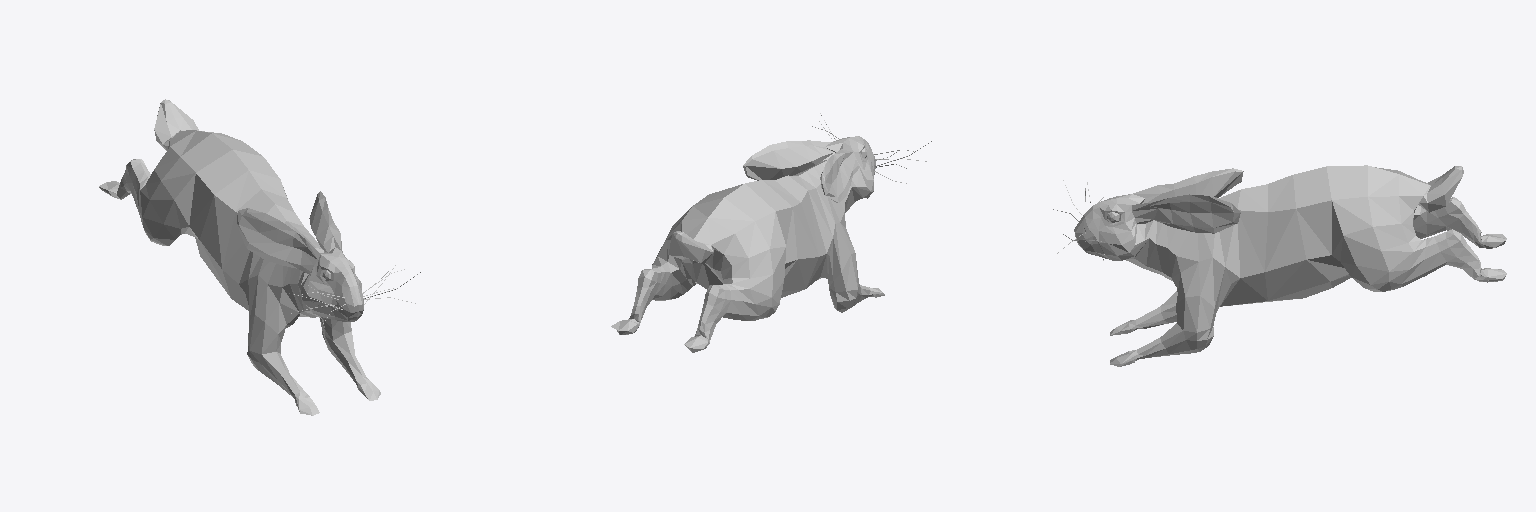
The model's file is rabbit_9.obj.
The picture shows the model from 3 angles: view 1: azimuth 30°, elevation 25°; view 2: azimuth 150°, elevation 25°; view 3: azimuth 270°, elevation 25°; orthographic projection.
Parts seen in each view (by area): view 1: Rabbit_Cylinder; view 2: Rabbit_Cylinder; view 3: Rabbit_Cylinder.
Part boxes in pixels (x1,y1,x2,y2): Rabbit_Cylinder: (99,99,420,415); Rabbit_Cylinder: (611,113,931,352); Rabbit_Cylinder: (1053,165,1506,366).
Bounding box in the file's own units: 7.02 × 10.31 × 23.45.